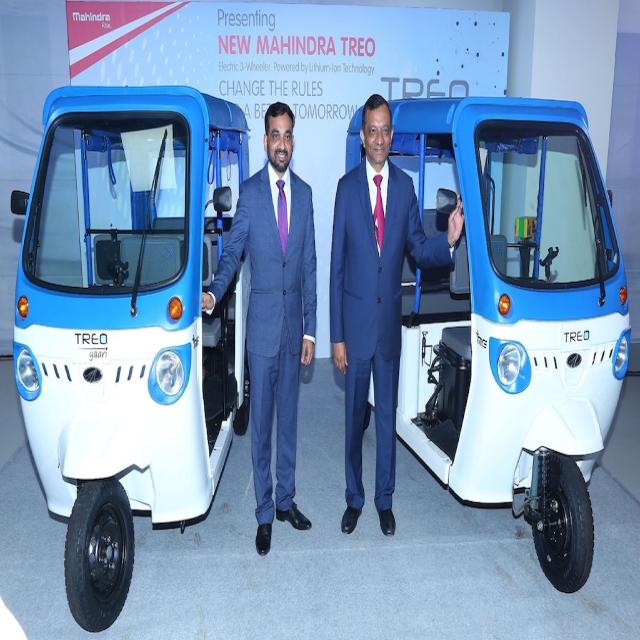autorickshaw: (11, 86, 250, 630), (390, 98, 630, 592)
